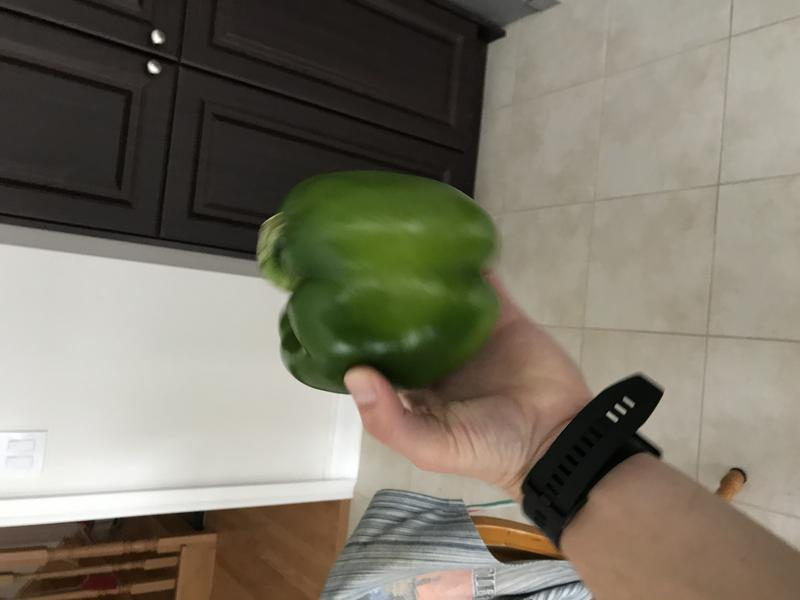green_pepper: (231, 150, 520, 409)
